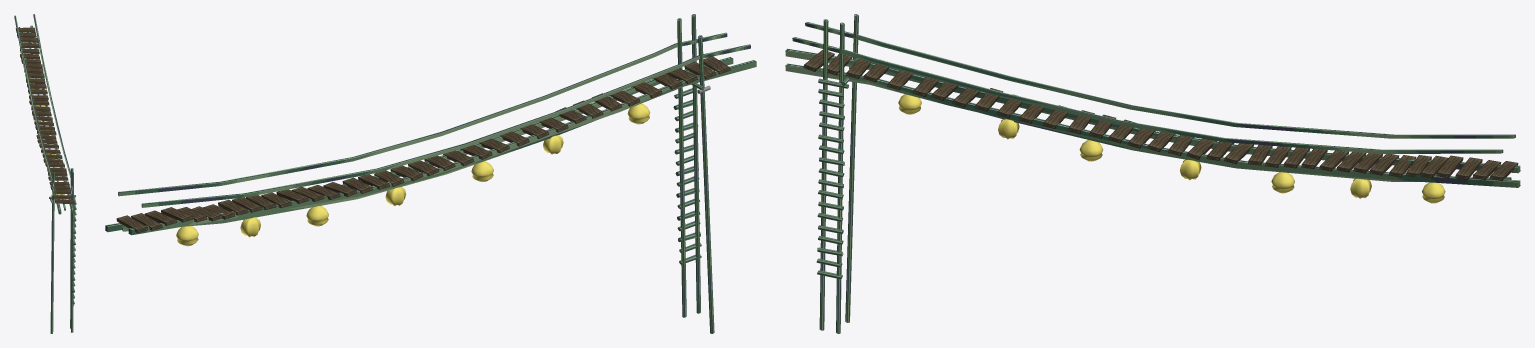
The model's file is Pont.FBX.
3 views of the same model, side by side, from view 1: azimuth 30°, elevation 25°; view 2: azimuth 150°, elevation 25°; view 3: azimuth 270°, elevation 25° (orthographic). The views are drawn at different scales.
Parts seen in each view (by area): view 1: pont, Object; view 2: pont, Object; view 3: pont, Object.
Part boxes in pixels (box(x1,y1,x2,y2)): pont: box(14, 14, 76, 333); Object: box(30, 59, 64, 195); pont: box(105, 14, 756, 333); Object: box(176, 103, 650, 246); pont: box(785, 14, 1520, 333); Object: box(898, 94, 1445, 203).
Bounding box in the file's own units: 608 × 578 × 1216.
